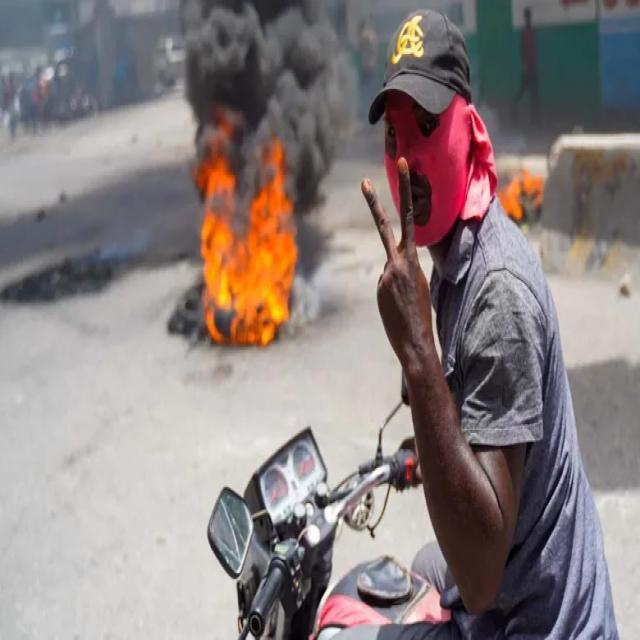Fire: (192, 104, 298, 345), (498, 164, 544, 220)
Smoke: (179, 0, 342, 289)
